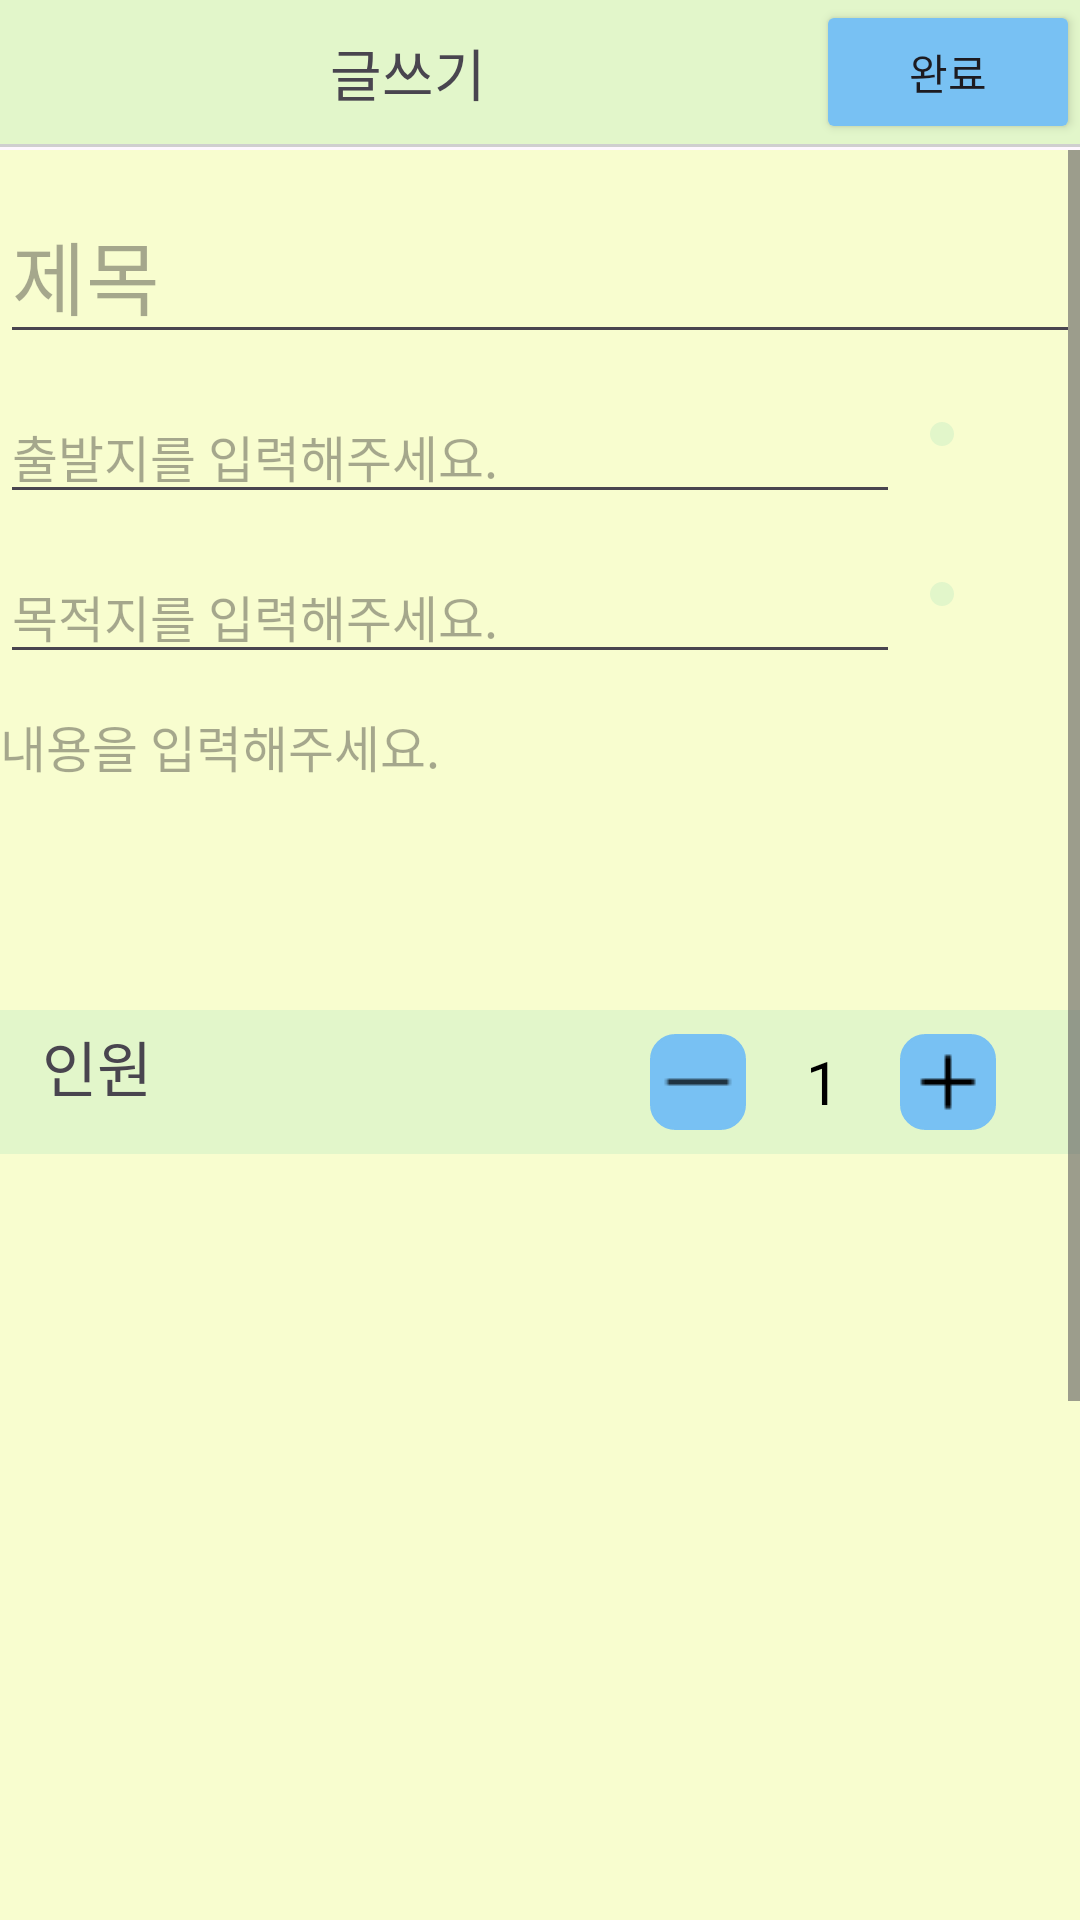

Icons on this 1080 x 1920 Android screen, each with its box as (x1, y1, x2, y2):
add by joalfa: (900, 1034, 996, 1130)
minus by inkubators: (650, 1034, 746, 1130)
